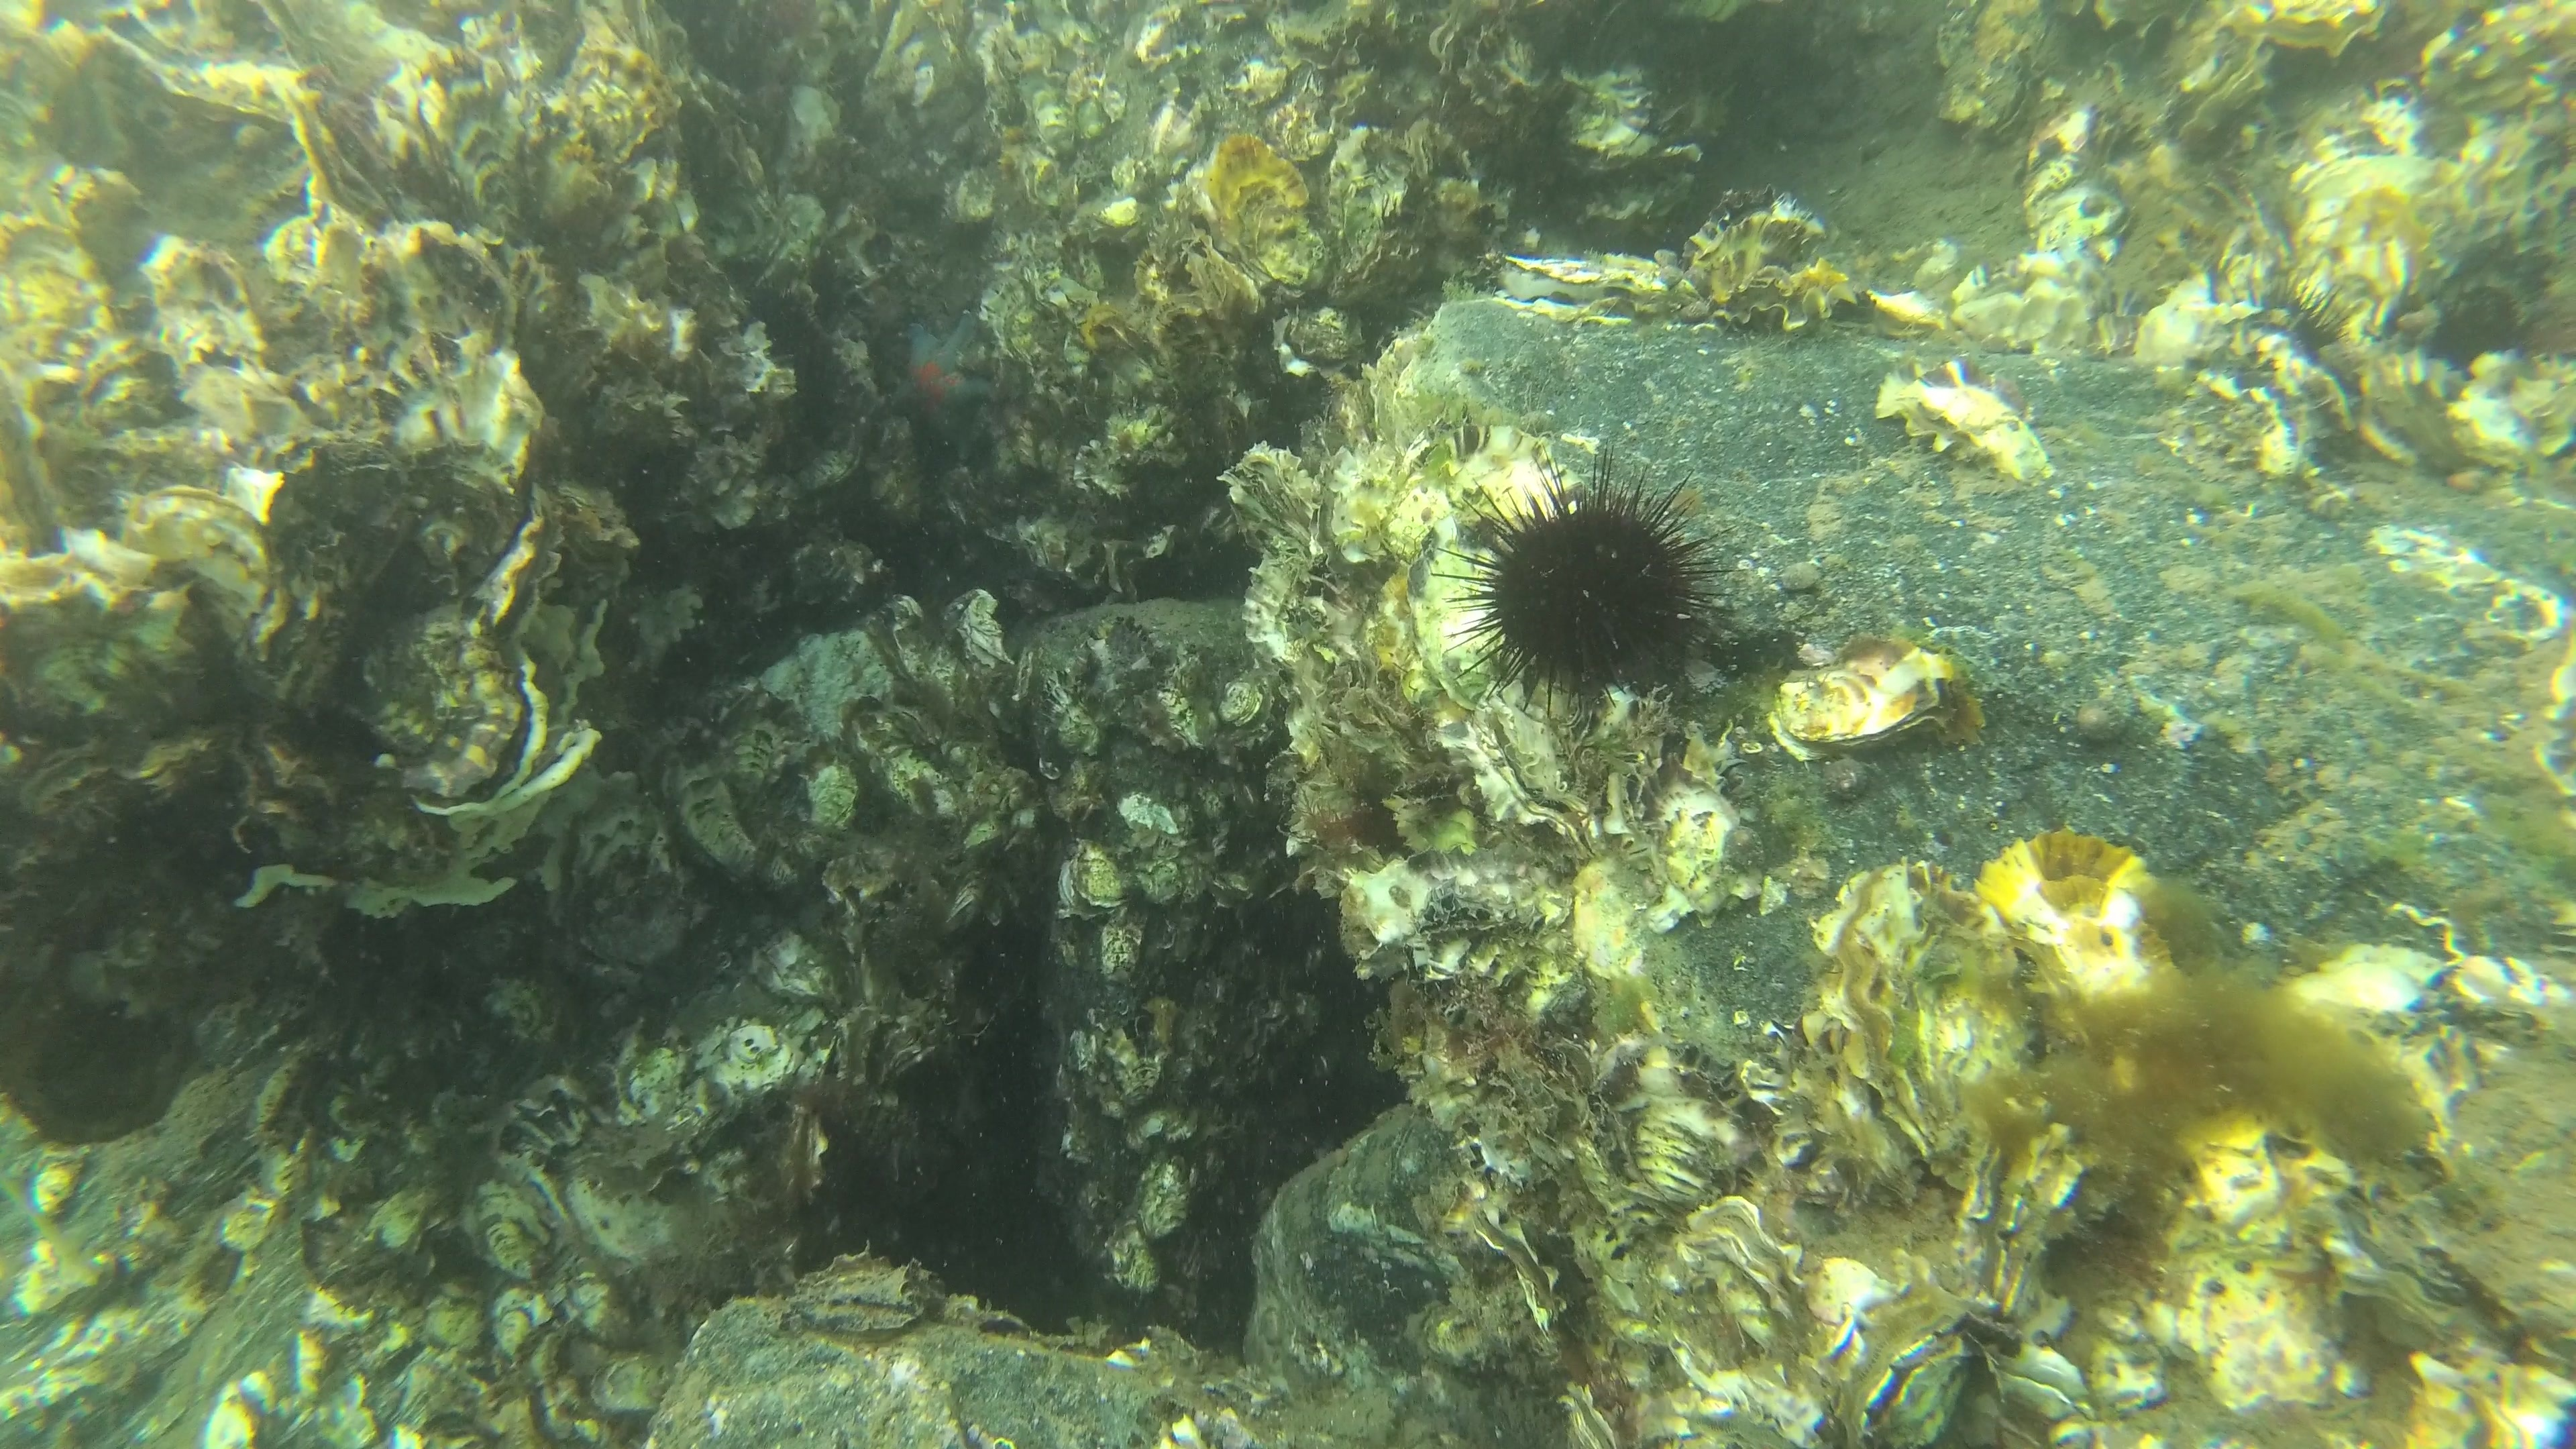echinus: (1458, 456, 1734, 718)
starfish: (879, 313, 1000, 471)
